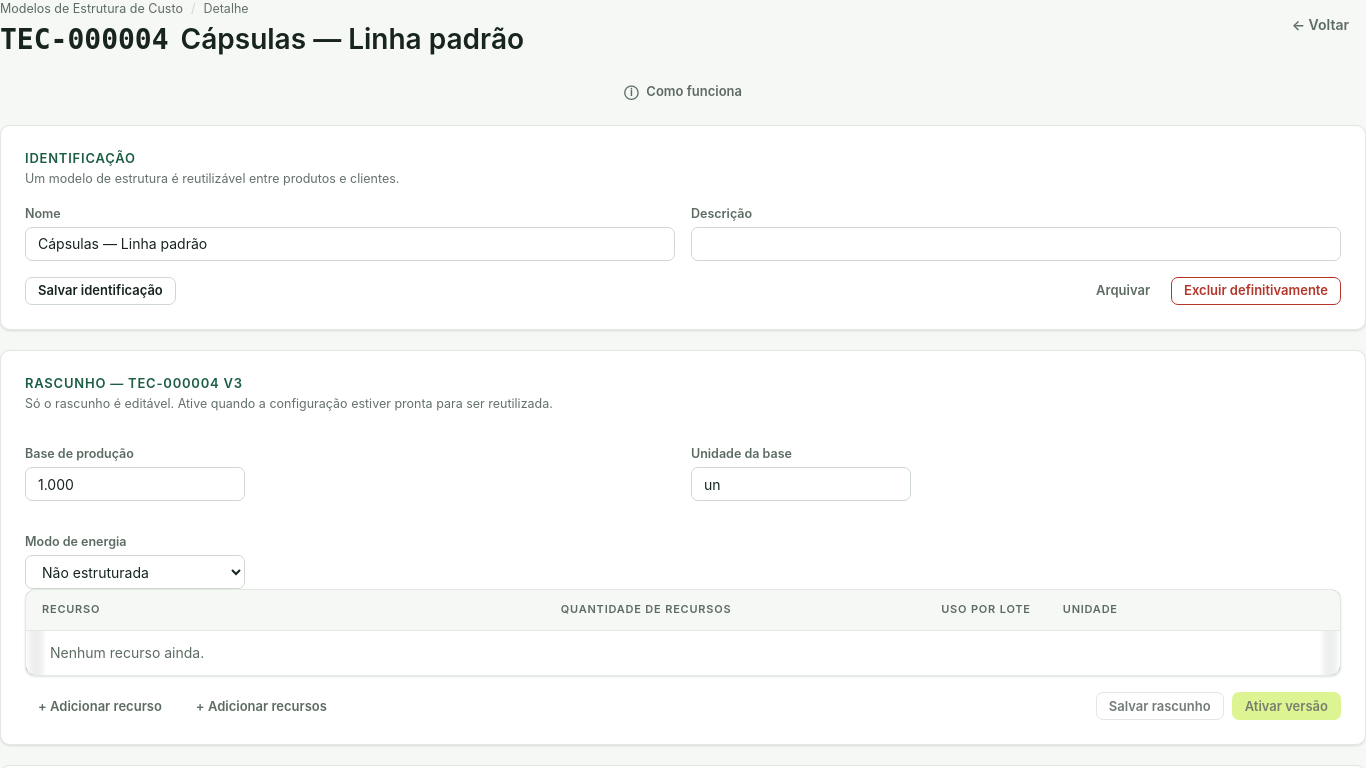
Scenario: Linha do Modelo — busca no servidor › abre com a primeira página — 20 — e o resto se alcança buscando
Expected: the heading "TEC-000004 Cápsulas — Linha padrão" is shown, [0,22,524,57]
Click the button "+ Adicionar recurso" at (100, 706), box [25,692,175,720]
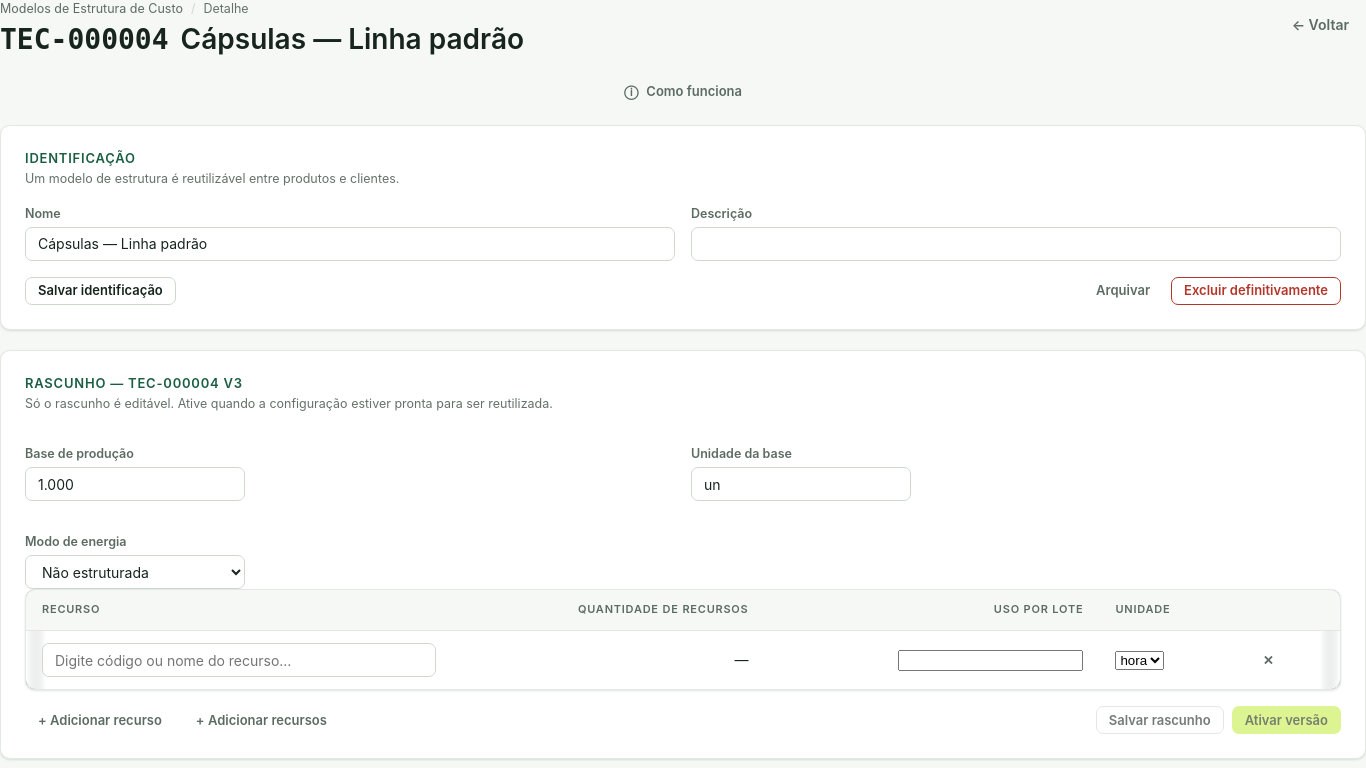
Focus the dropdown named "Recurso industrial" at (239, 660), box [42,643,436,677]
(page scrolled)
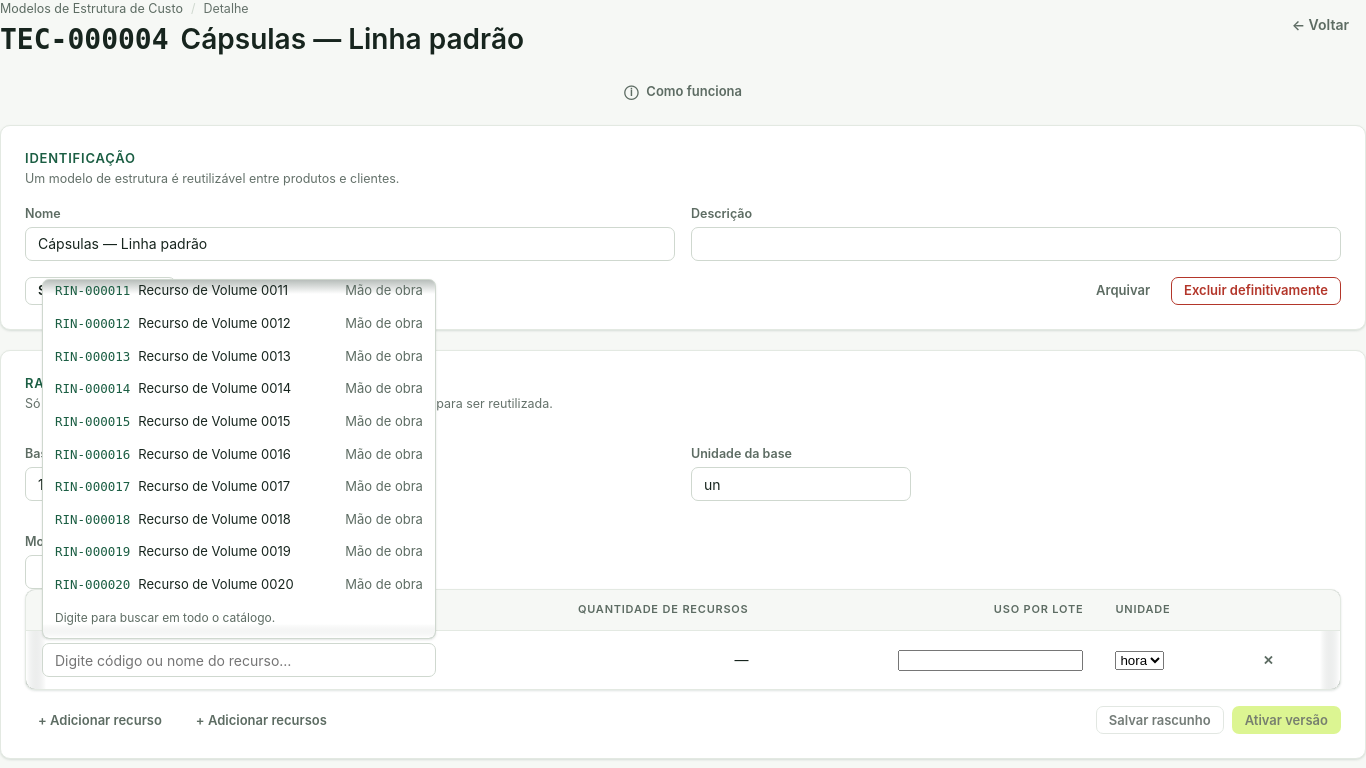
Result: the list item "Digite para buscar em todo o catálogo." is shown at [55,610,275,625]
